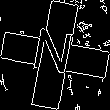N_S: (30, 26, 80, 84)
